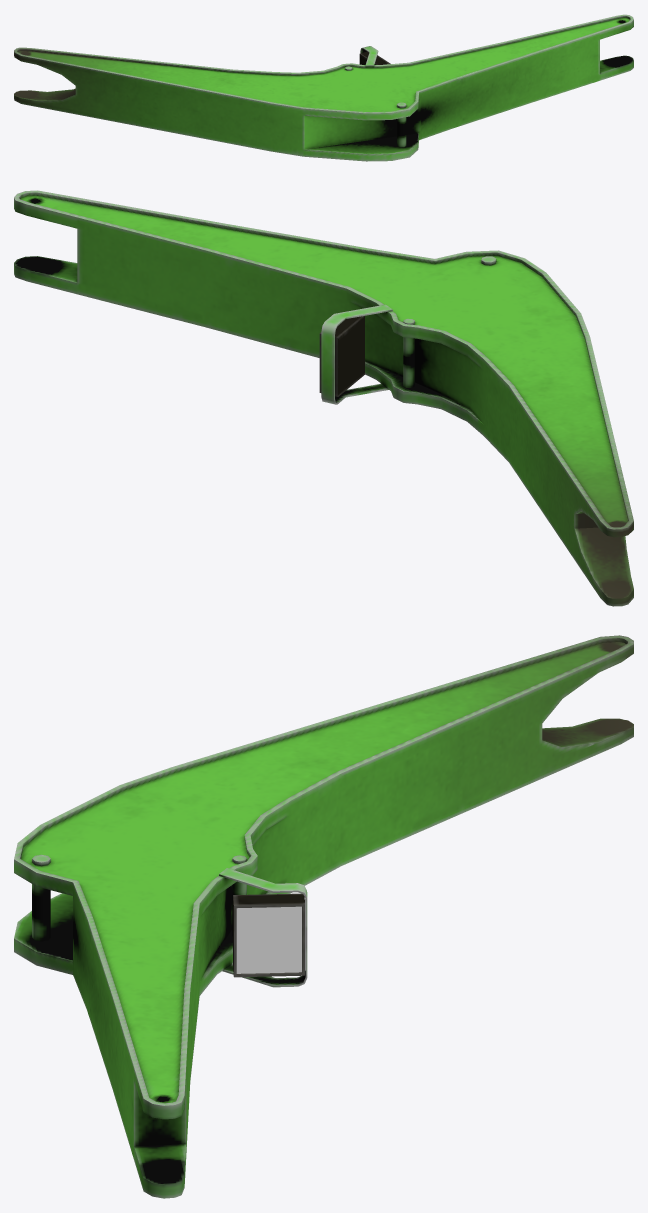
The model's file is boom.obj.
3 renders of one model, top to bottom at view 1: azimuth 30°, elevation 25°; view 2: azimuth 150°, elevation 25°; view 3: azimuth 270°, elevation 25°, orthographic. The views are drawn at different scales.
Visible parts, largest first — view 1: Arm_bottom.001; view 2: Arm_bottom.001; view 3: Arm_bottom.001.
Part boxes in pixels (bbox=[...]): Arm_bottom.001: bbox=[14, 14, 633, 161]; Arm_bottom.001: bbox=[14, 190, 633, 606]; Arm_bottom.001: bbox=[14, 635, 633, 1198].
Bounding box in the file's own units: 1.98 × 0.1887 × 1.1.
1 material, 1 textured.
